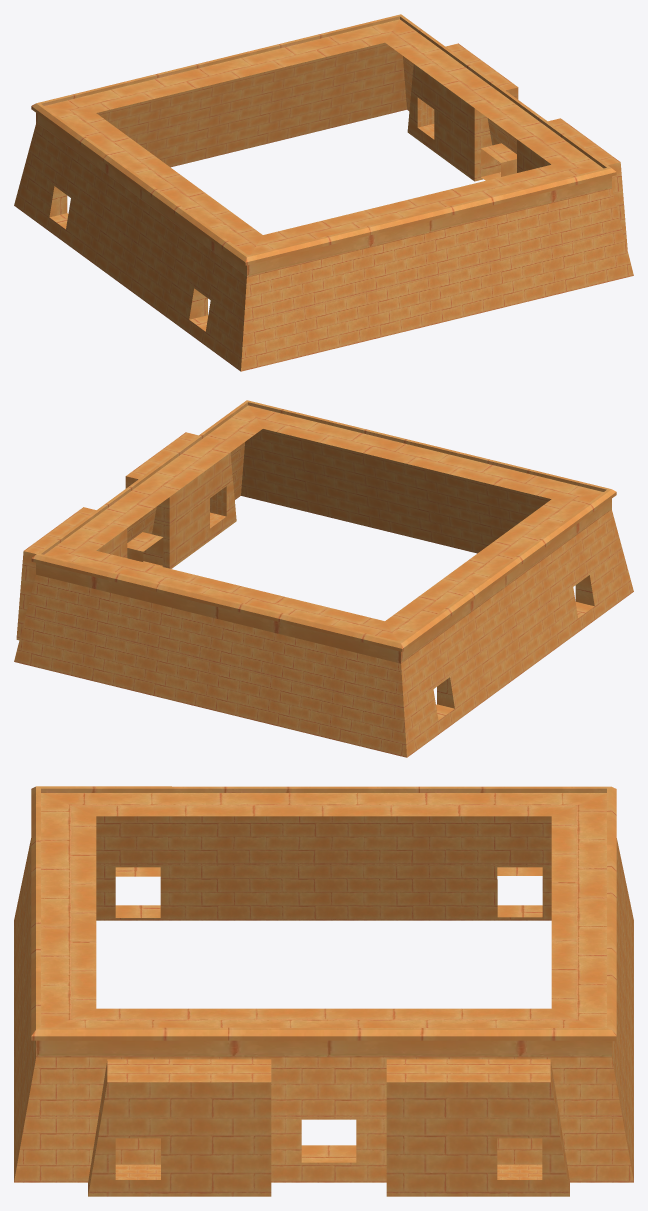
File: pm-temple-floor-01.glb
3 views of the same model, one above another, from view 1: azimuth 30°, elevation 25°; view 2: azimuth 150°, elevation 25°; view 3: azimuth 270°, elevation 25° (orthographic). The views are drawn at different scales.
Visible parts, largest first — view 1: TempleFloor01_Art; view 2: TempleFloor01_Art; view 3: TempleFloor01_Art.
Part boxes in pixels (x1,y1,x2,y2): TempleFloor01_Art: (14,14,633,371); TempleFloor01_Art: (14,400,633,757); TempleFloor01_Art: (14,786,633,1196).
Bounding box in the file's own units: 67.66 × 16.4 × 64.24.
2 materials, 2 textured.
